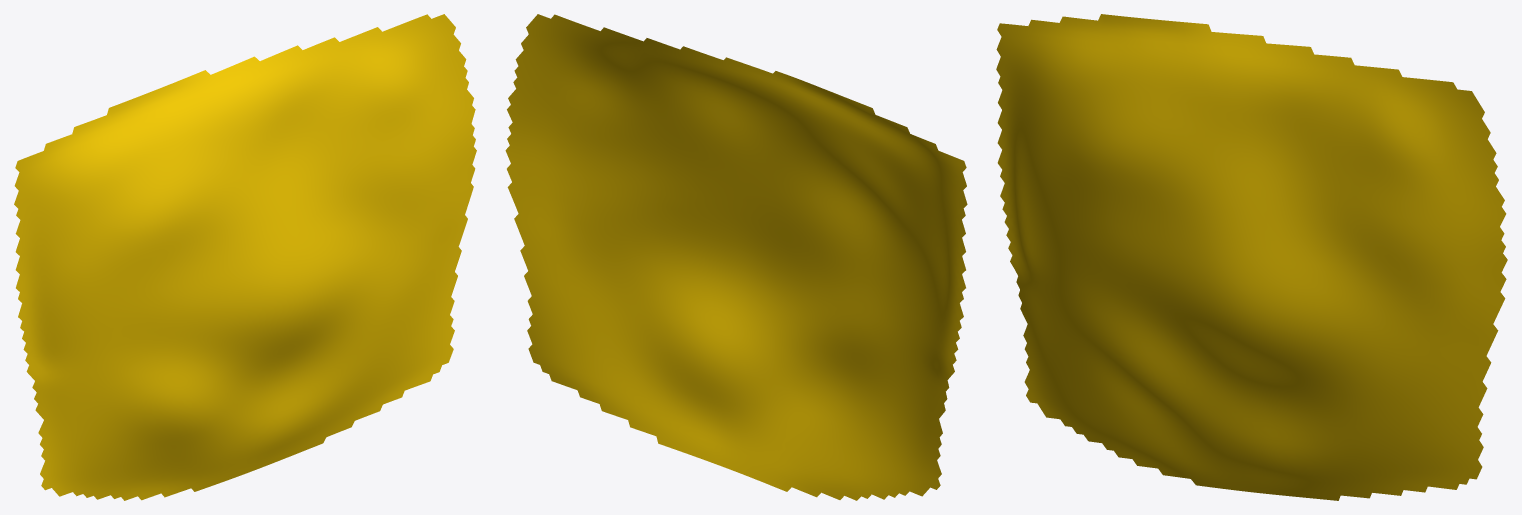
Rendered from SM_GPUI_seederground_70.FBX.
3 renders of one model, left to right at view 1: azimuth 30°, elevation 25°; view 2: azimuth 150°, elevation 25°; view 3: azimuth 330°, elevation 25°, orthographic. The views are drawn at different scales.
Parts seen in each view (by area): view 1: SM_GPUI_seederground_70; view 2: SM_GPUI_seederground_70; view 3: SM_GPUI_seederground_70.
Boxes of the visible parts, box(x1,y1,x2,y2) form: SM_GPUI_seederground_70: box(14, 14, 476, 500); SM_GPUI_seederground_70: box(505, 14, 967, 500); SM_GPUI_seederground_70: box(996, 14, 1507, 500).
Size of the model in its own units: 4589 by 3992 by 425.
Materials: 1 (1 with a texture image).
